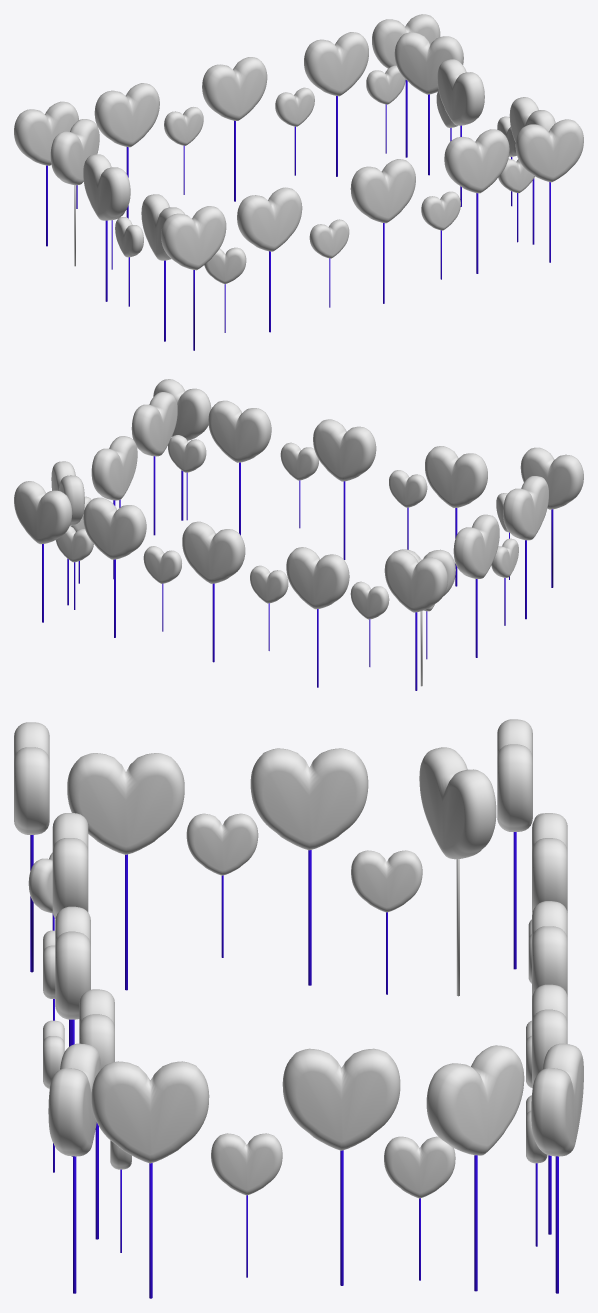
File: lovehearts.fbx
3 views of the same model, one above another, from view 1: azimuth 30°, elevation 25°; view 2: azimuth 150°, elevation 25°; view 3: azimuth 270°, elevation 25° (orthographic). The views are drawn at different scales.
Visible parts, largest first — view 1: Circle.001; view 2: Circle.001; view 3: Circle.001.
Part boxes in pixels (x1,y1,x2,y2): Circle.001: [14, 14, 583, 350]; Circle.001: [14, 379, 583, 690]; Circle.001: [14, 719, 583, 1298].
Bounding box in the file's own units: 15689 × 5213 × 10648.
